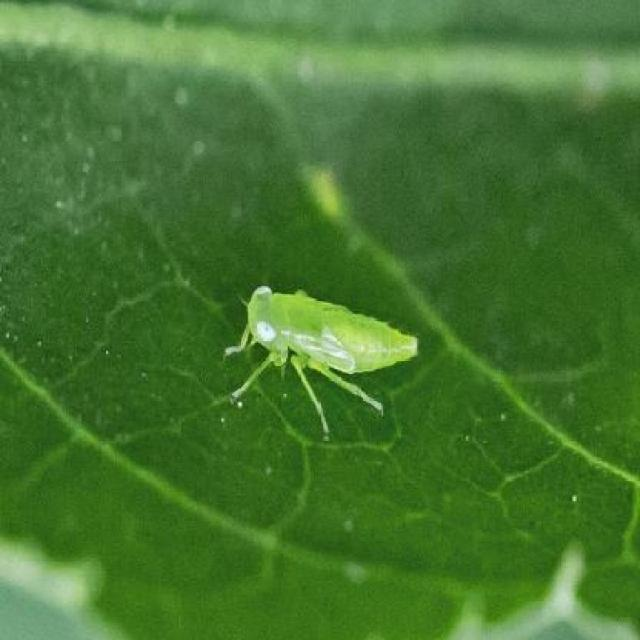green-leafhopper: (224, 282, 422, 431)
